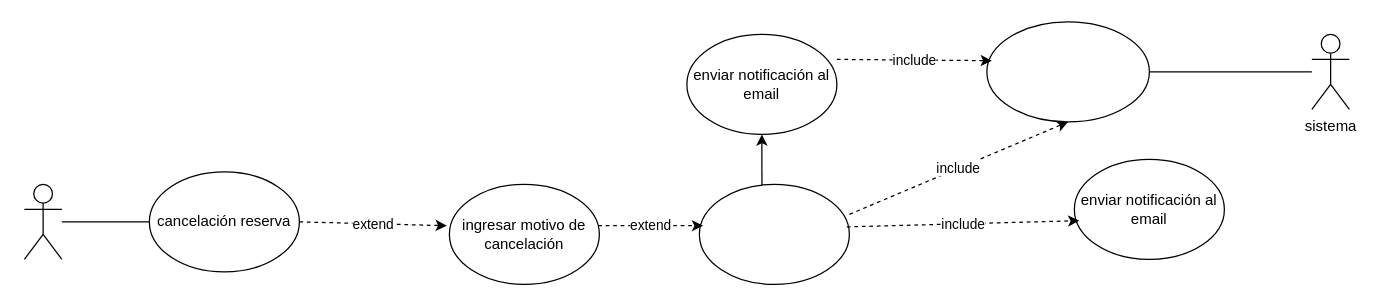
This 1378x308 diagram has some shape labels left out. The box of each missing label's shape, as (x1, y1, x2, y2) in pixels:
cliente: (23, 183, 62, 259)
guardar reserva en el sistema: (986, 21, 1149, 122)
mostrar resumen de la cancelación de la reserva: (698, 183, 849, 284)
